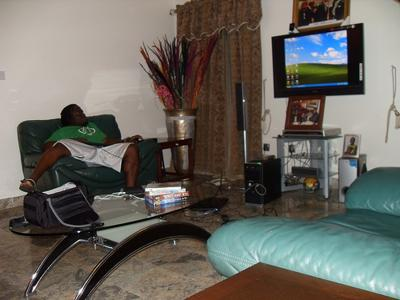person: (23, 104, 140, 191)
